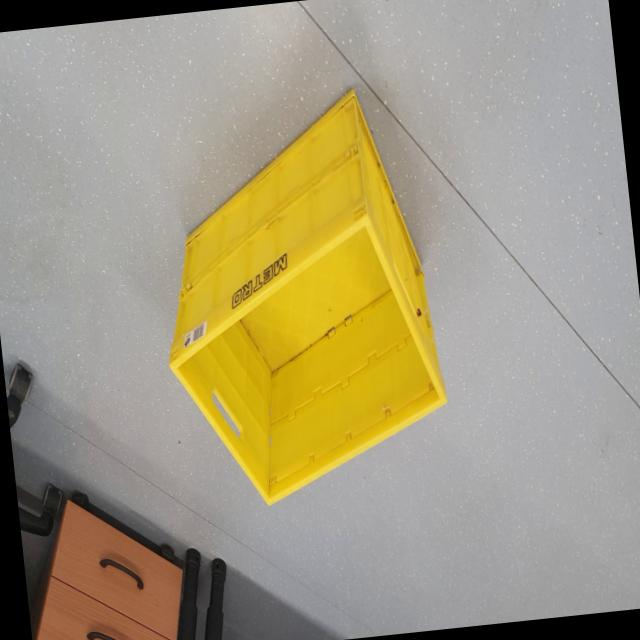box: (138, 75, 478, 526)
